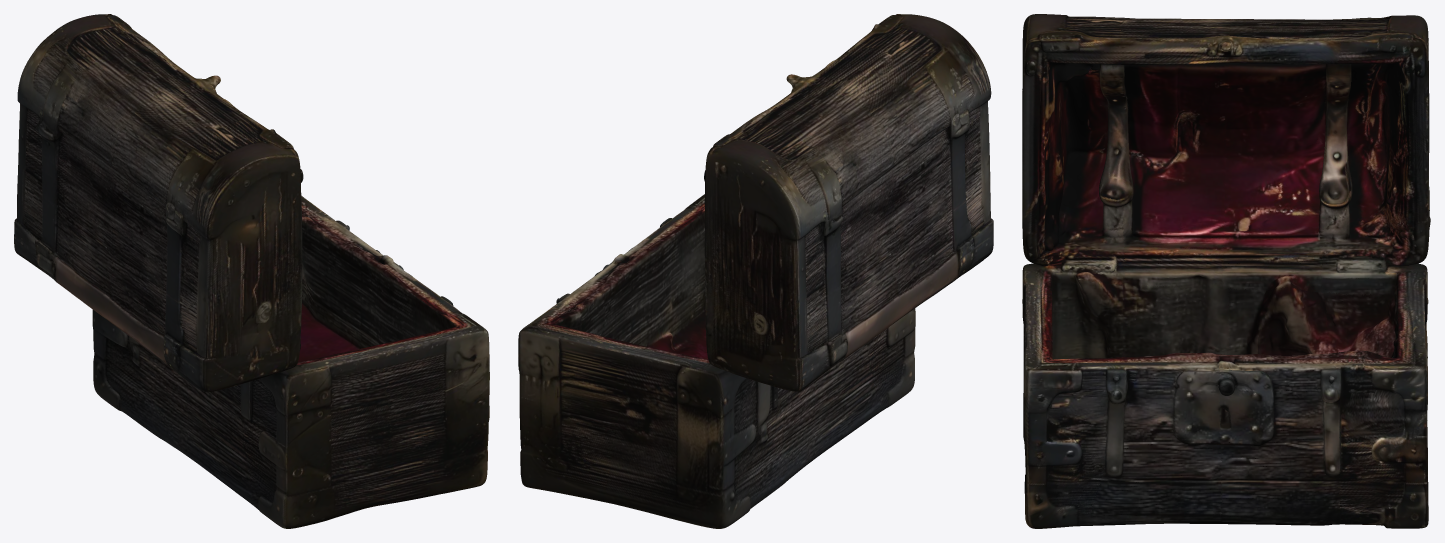
File: TC002_Tripo 3D-2.5.glb
3 views of the same model, side by side, from view 1: azimuth 30°, elevation 25°; view 2: azimuth 150°, elevation 25°; view 3: azimuth 270°, elevation 25° (orthographic). The views are drawn at different scales.
Parts seen in each view (by area): view 1: tripo_node_8bc8512f-dea8-4313-873f-266b01a02f50; view 2: tripo_node_8bc8512f-dea8-4313-873f-266b01a02f50; view 3: tripo_node_8bc8512f-dea8-4313-873f-266b01a02f50.
Part boxes in pixels (x1=…): tripo_node_8bc8512f-dea8-4313-873f-266b01a02f50: x1=14, y1=14, x2=489, y2=528; tripo_node_8bc8512f-dea8-4313-873f-266b01a02f50: x1=518, y1=14, x2=993, y2=528; tripo_node_8bc8512f-dea8-4313-873f-266b01a02f50: x1=1022, y1=14, x2=1430, y2=528.
Bounding box in the file's own units: 0.8091 × 0.9999 × 0.9257.
1 material, 1 textured.
